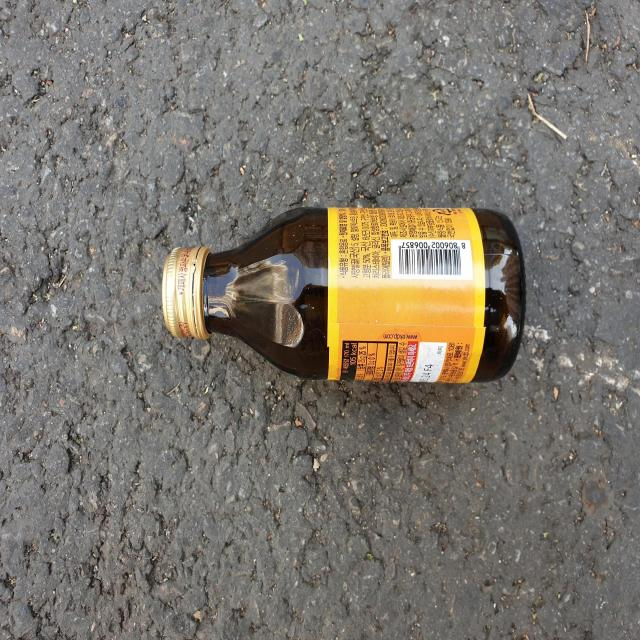glass: (162, 207, 527, 383)
